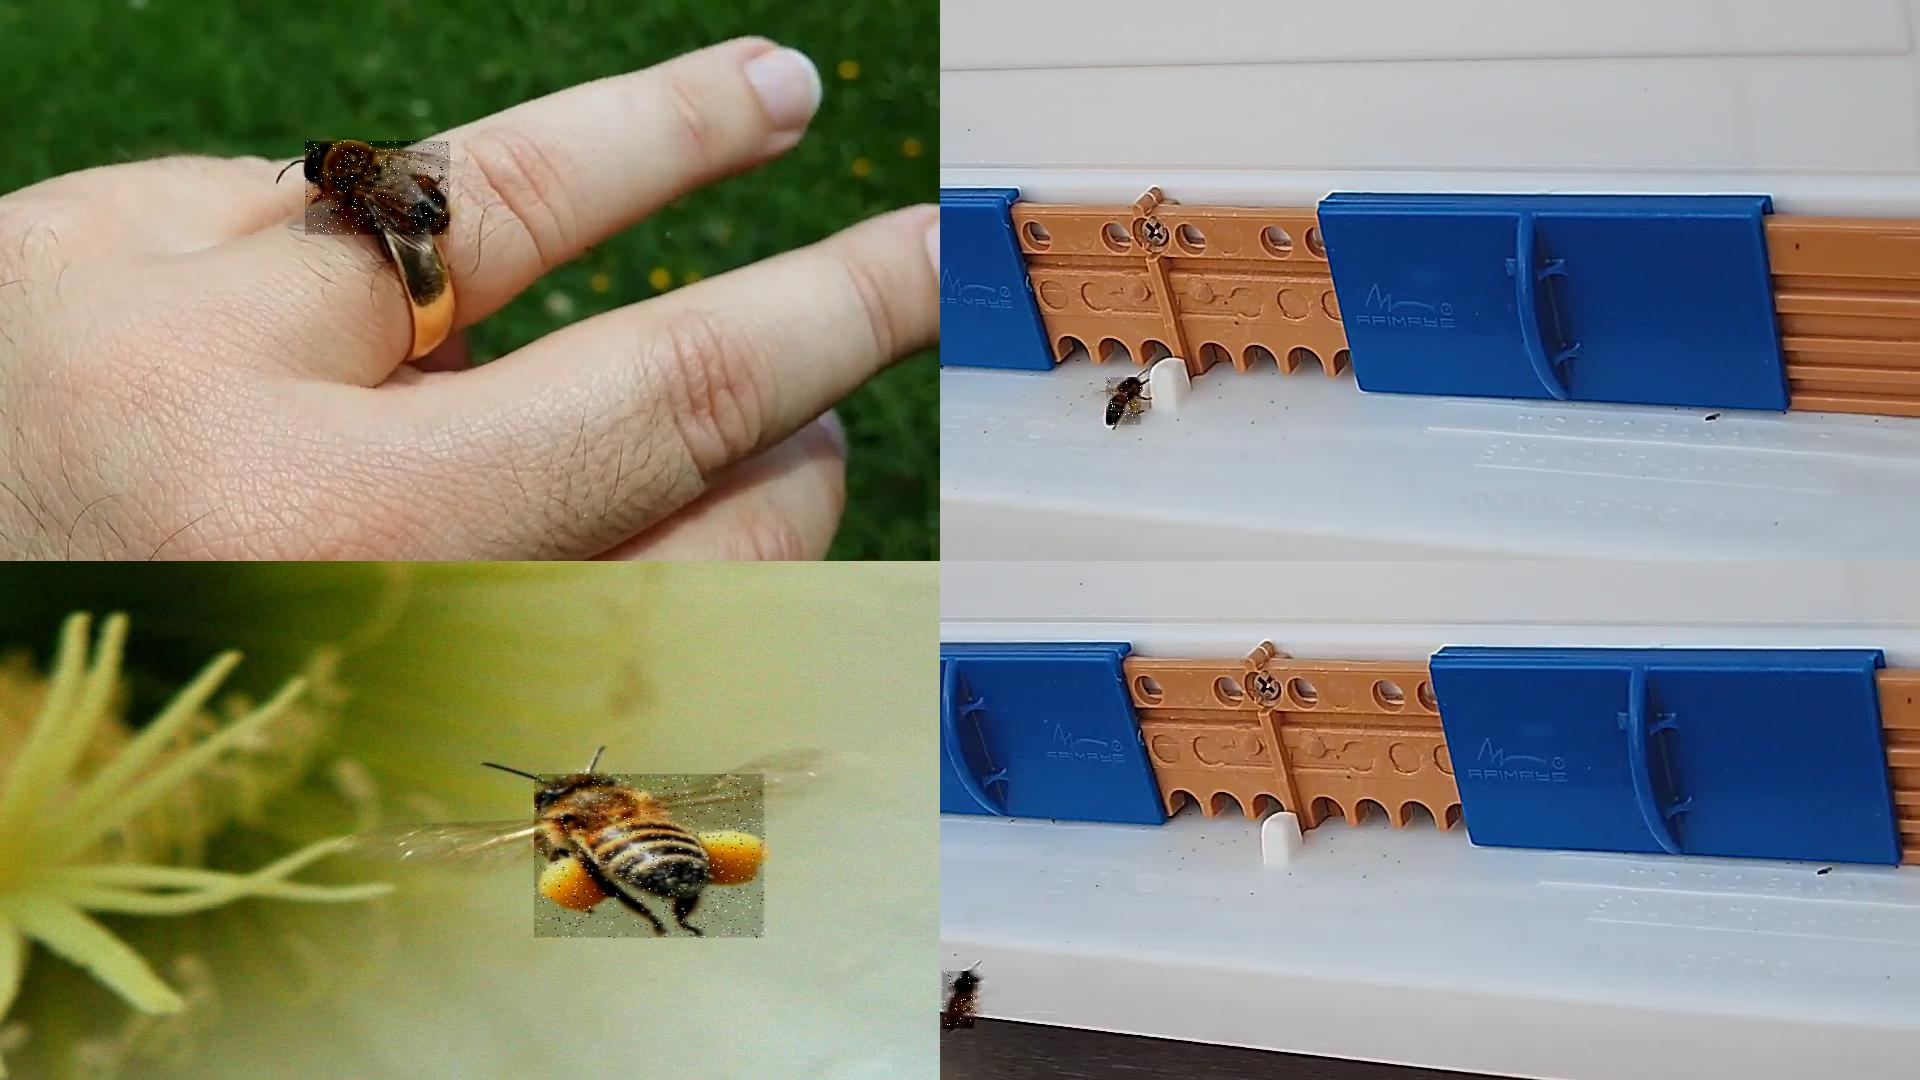bee: (943, 971, 978, 1030)
drone: (305, 141, 451, 236)
pollenbee: (535, 774, 769, 939), (1106, 377, 1142, 426)
